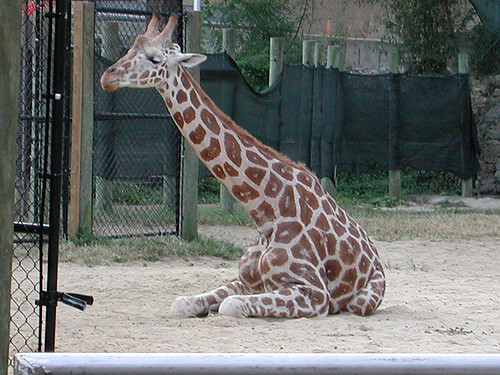giraffe: (83, 6, 401, 323)
